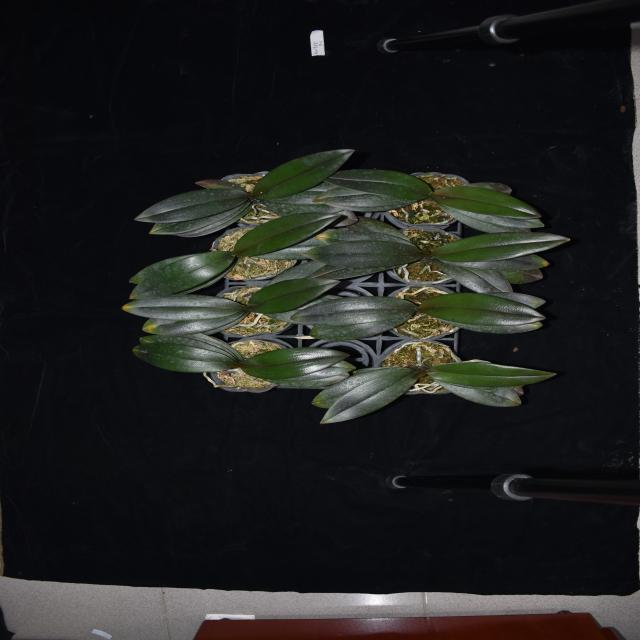leaf: (320, 369, 418, 424), (128, 251, 236, 299), (255, 149, 356, 200), (233, 212, 340, 258), (132, 187, 250, 224), (312, 366, 413, 409), (419, 292, 546, 326), (430, 232, 571, 262), (289, 296, 419, 326), (323, 167, 435, 200), (146, 199, 248, 235), (436, 186, 546, 219), (301, 240, 430, 268), (121, 292, 248, 320), (239, 348, 353, 379), (248, 277, 340, 315), (309, 310, 419, 341), (426, 362, 557, 388), (132, 343, 239, 373), (426, 375, 522, 407), (142, 307, 248, 335), (141, 334, 238, 362), (257, 201, 358, 227), (438, 205, 534, 232), (434, 261, 513, 292), (169, 205, 250, 235), (443, 204, 544, 228), (129, 252, 201, 282), (431, 253, 550, 271), (311, 188, 418, 207), (433, 316, 543, 334), (313, 230, 418, 248), (264, 360, 358, 380), (306, 264, 405, 281), (182, 333, 242, 361), (348, 214, 409, 240), (262, 372, 350, 387), (477, 291, 546, 310), (458, 182, 512, 196), (498, 268, 542, 285), (195, 178, 247, 190), (411, 370, 426, 380)
